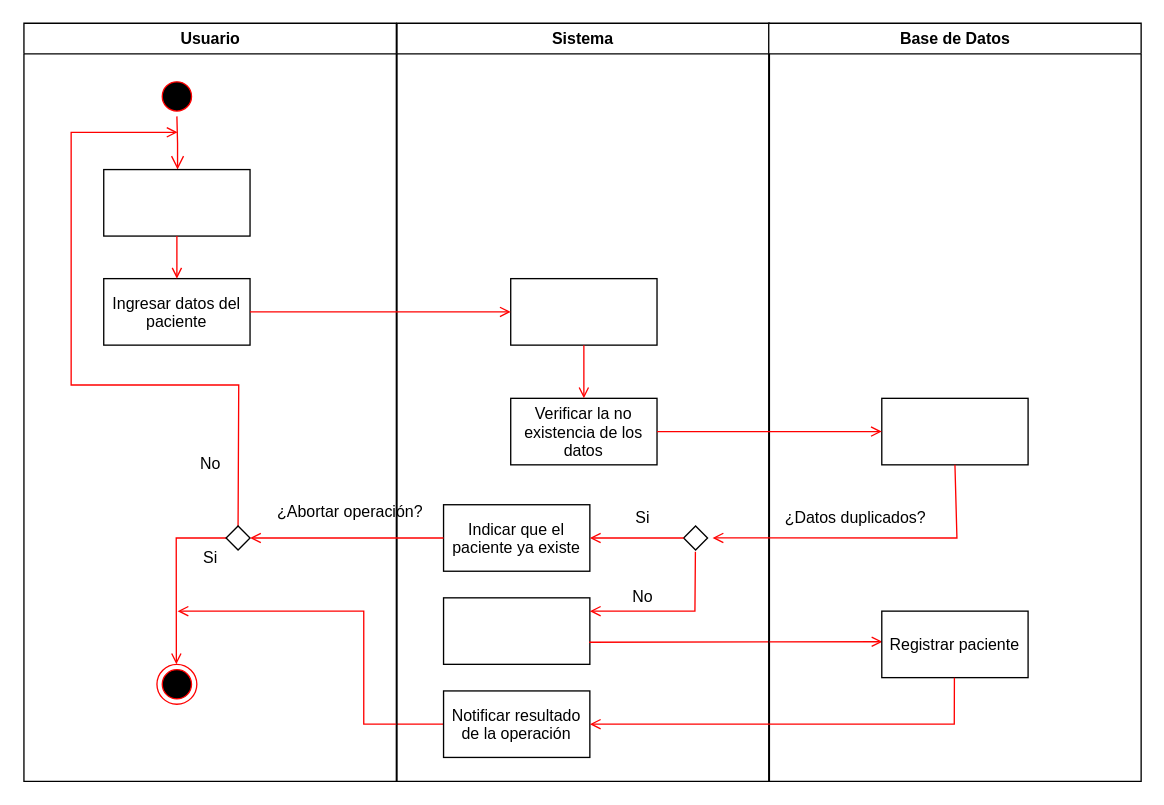
Image size: 1164x805. Some labels were removed from this diagram. Here are the shapes that lost their labels. From the top down, the centre of each, then its label:
At (176,202): "Presionar boton de registrar paciente".
At (583,311): "Validar la estructura de los datos".
At (954,431): "Devolver consulta de los datos".
At (516,630): "Realizar peticion de registro".
